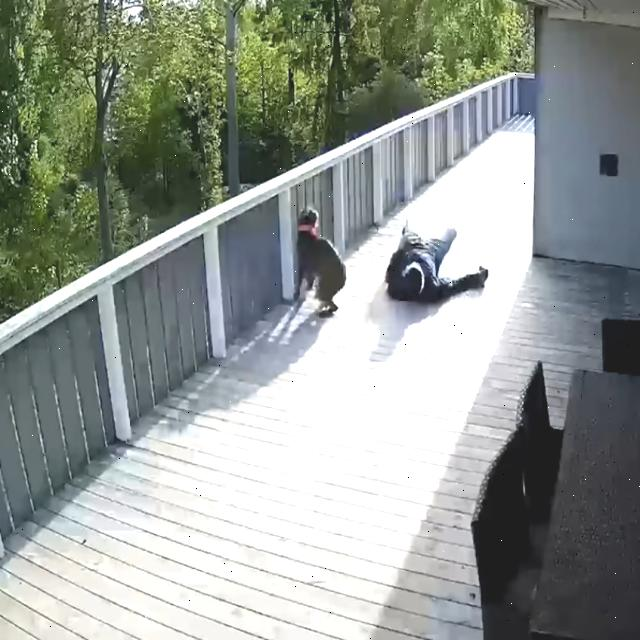fallen: (385, 224, 488, 304)
